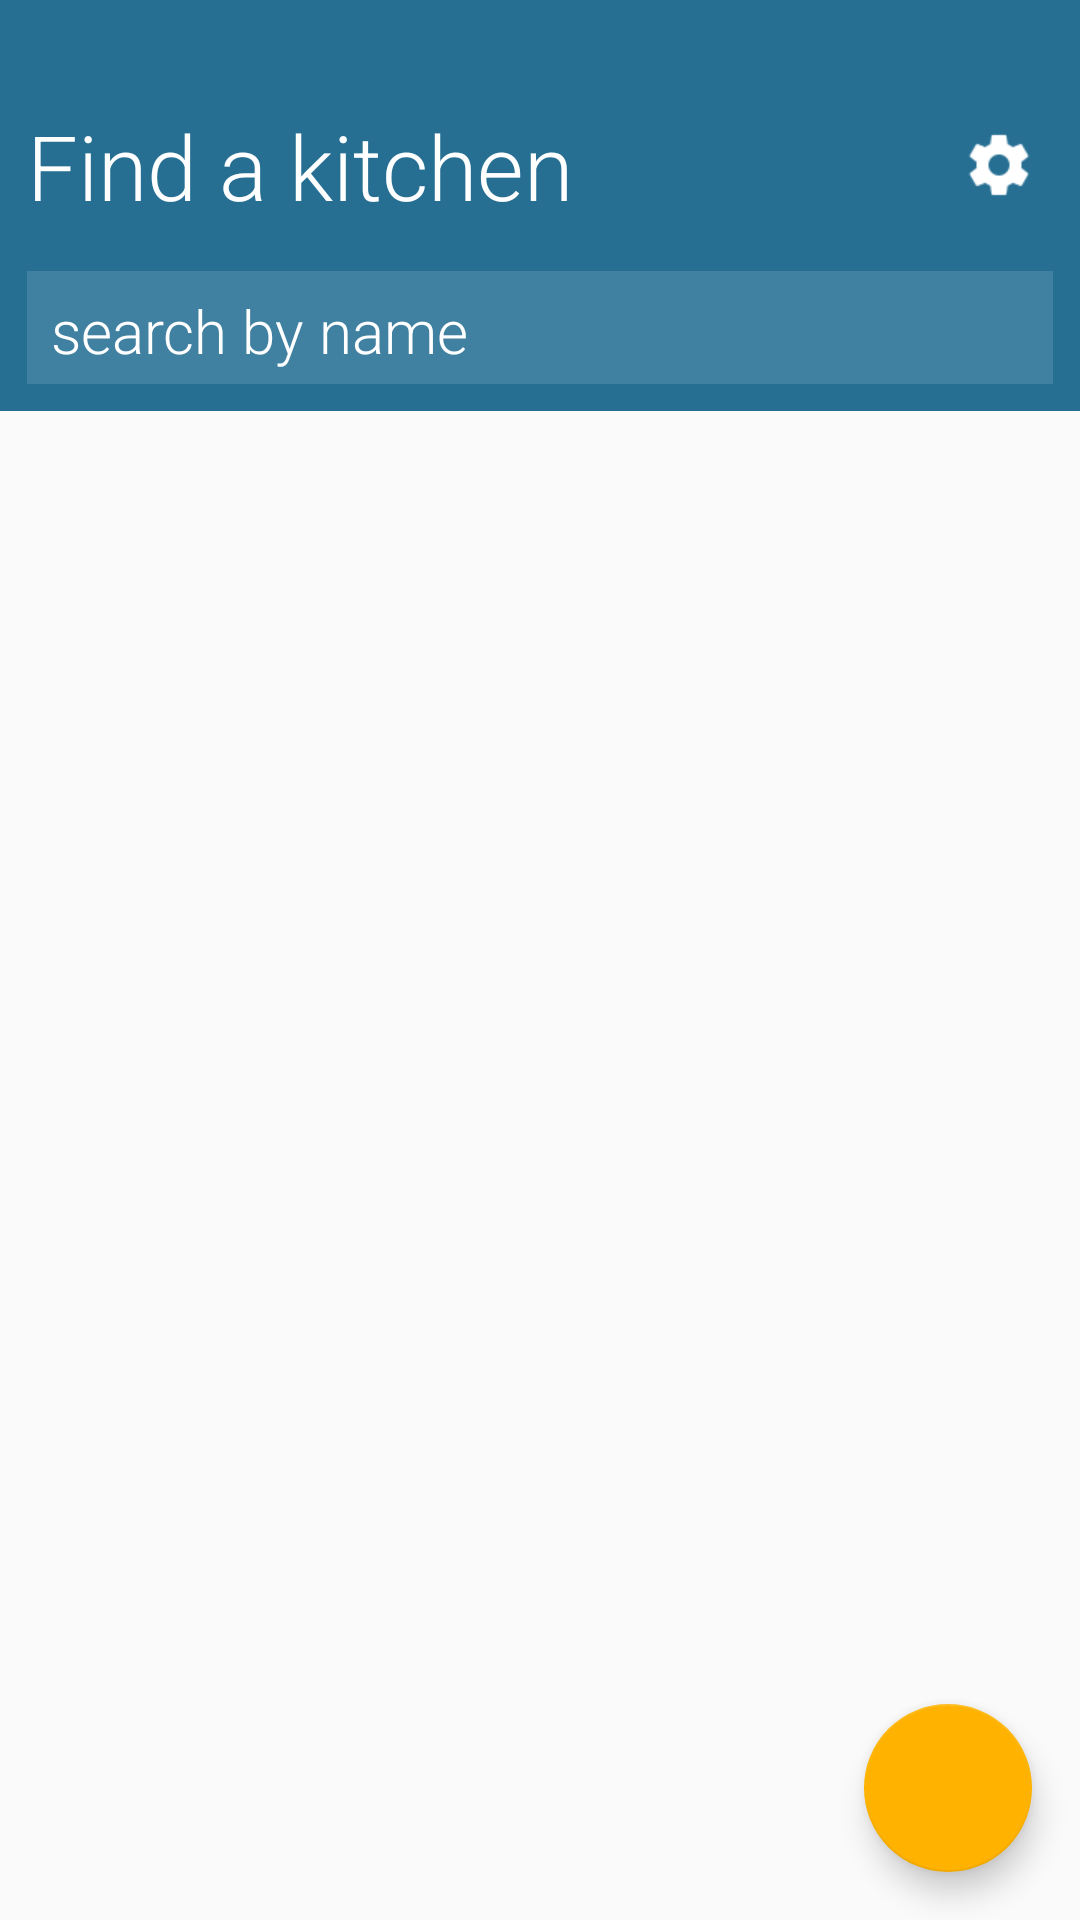

Where icons sit on this 1080*1920 app screen, as (x1, y1, x2, y2):
edit app settings: (969, 134, 1029, 196)
